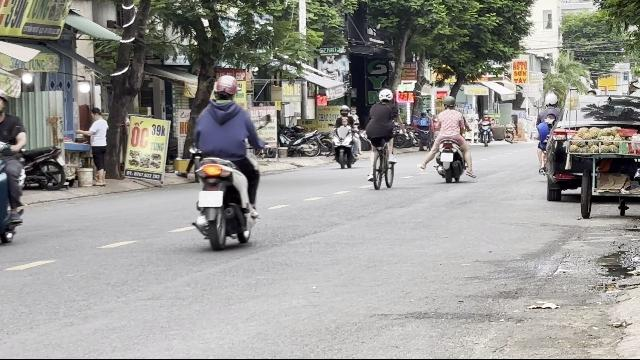helmet: (210, 74, 238, 102)
licenseplate: (198, 190, 222, 206)
motorcyclist: (188, 74, 264, 250)
